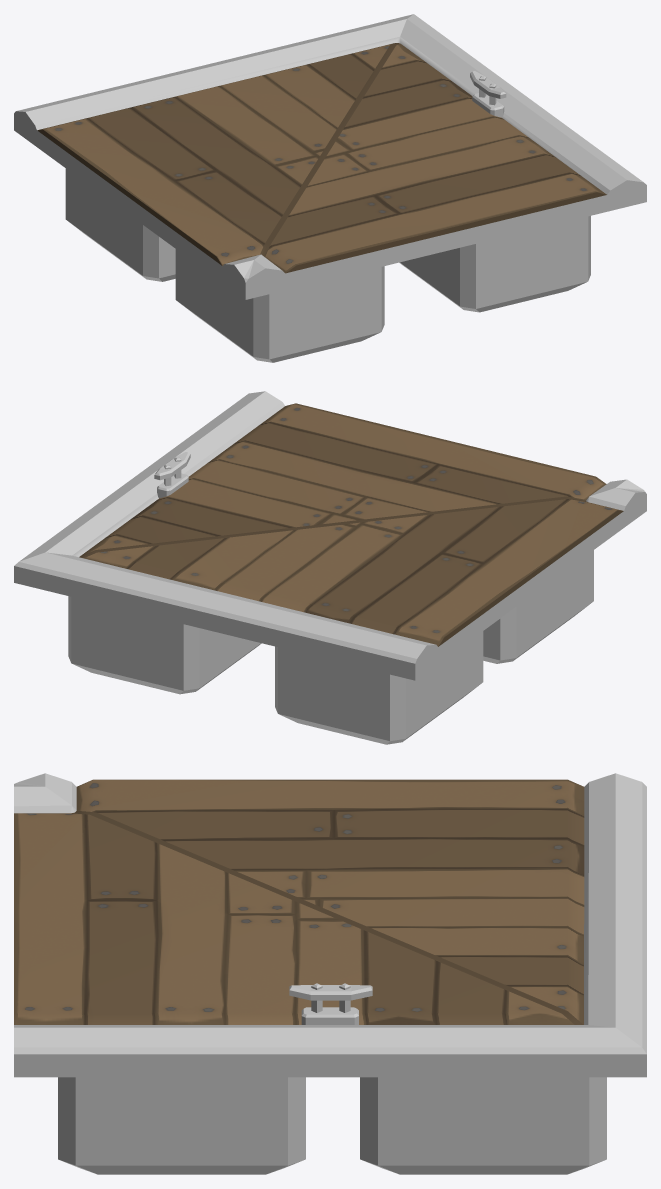
The model's file is SM_Bld_Dock_Platform_Corner_01.fbx.
The picture shows the model from 3 angles, top to bottom: view 1: azimuth 30°, elevation 25°; view 2: azimuth 150°, elevation 25°; view 3: azimuth 270°, elevation 25°; orthographic projection. The views are drawn at different scales.
Parts seen in each view (by area): view 1: SM_Bld_Dock_Platform_Corner_01; view 2: SM_Bld_Dock_Platform_Corner_01; view 3: SM_Bld_Dock_Platform_Corner_01.
Part boxes in pixels (x1,y1,x2,y2): SM_Bld_Dock_Platform_Corner_01: (14, 14, 646, 362); SM_Bld_Dock_Platform_Corner_01: (14, 391, 646, 744); SM_Bld_Dock_Platform_Corner_01: (14, 773, 646, 1174).
Size of the model in its own units: 250 by 83.51 by 250.
